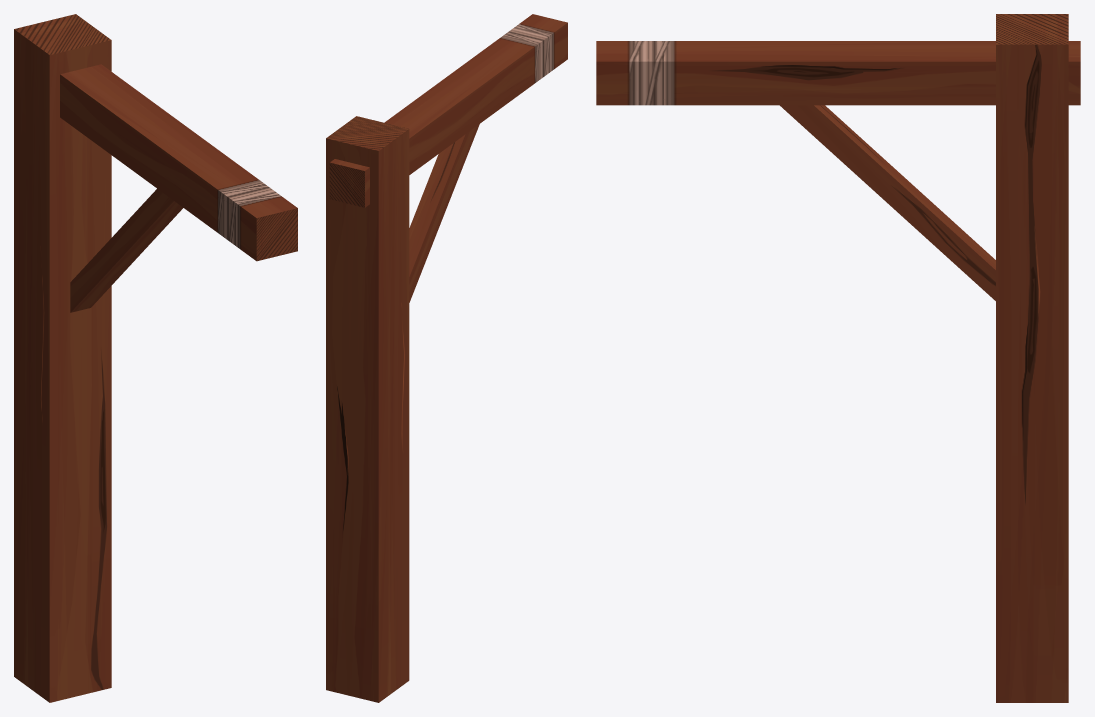
The model's file is Zipline_Mod.FBX.
The picture shows the model from 3 angles, left to right: view 1: azimuth 30°, elevation 25°; view 2: azimuth 150°, elevation 25°; view 3: azimuth 270°, elevation 25°; orthographic projection. The views are drawn at different scales.
Visible parts, largest first — view 1: Zipline; view 2: Zipline; view 3: Zipline.
Boxes of the visible parts, x1=… form: Zipline: x1=14, y1=14, x2=297, y2=702; Zipline: x1=326, y1=14, x2=567, y2=702; Zipline: x1=596, y1=14, x2=1080, y2=702.
Bounding box in the file's own units: 5.91 × 59.06 × 39.37.
Materials: 1 (1 with a texture image).
